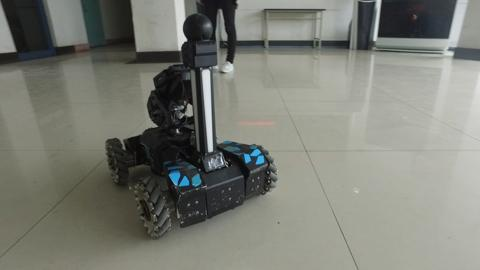chariot: (105, 11, 279, 240)
